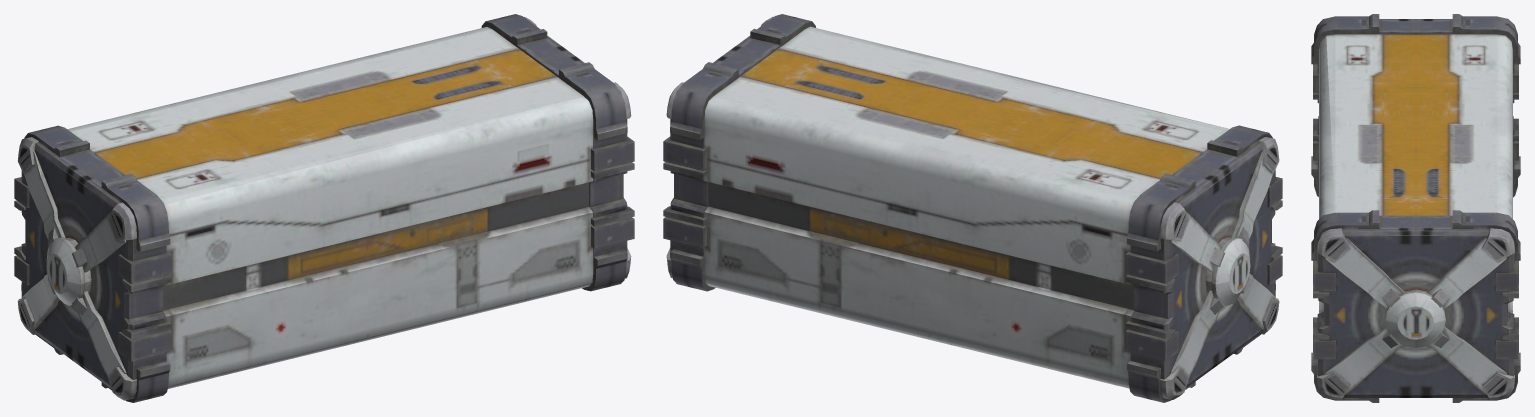
Rendered from Demo_huoxiang.FBX.
3 views of the same model, side by side, from view 1: azimuth 30°, elevation 25°; view 2: azimuth 150°, elevation 25°; view 3: azimuth 270°, elevation 25° (orthographic). The views are drawn at different scales.
Visible parts, largest first — view 1: Demo_huoxiang; view 2: Demo_huoxiang; view 3: Demo_huoxiang.
Boxes of the visible parts, x1,y1,x2,y2 form: Demo_huoxiang: [14, 14, 634, 402]; Demo_huoxiang: [663, 14, 1282, 402]; Demo_huoxiang: [1311, 14, 1520, 402].
Size of the model in its own units: 17.39 by 6.36 by 6.7.
